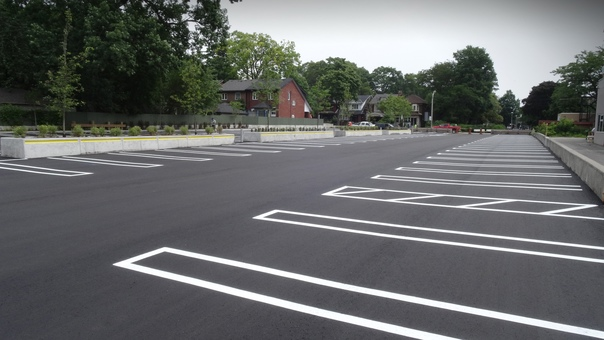Car: (433, 123, 460, 134), (377, 123, 393, 129), (358, 121, 375, 126), (340, 119, 351, 126)
